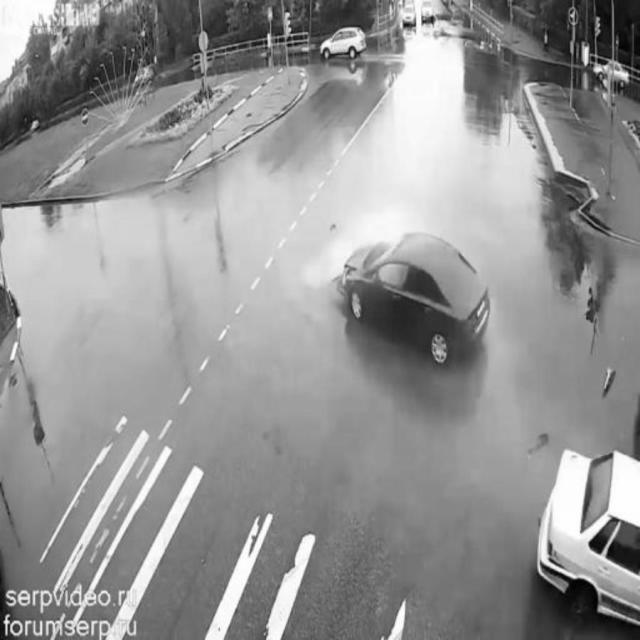vehicle: (335, 224, 493, 370), (535, 424, 638, 624), (318, 19, 369, 63), (592, 54, 630, 92), (401, 3, 417, 33), (422, 1, 432, 31)
